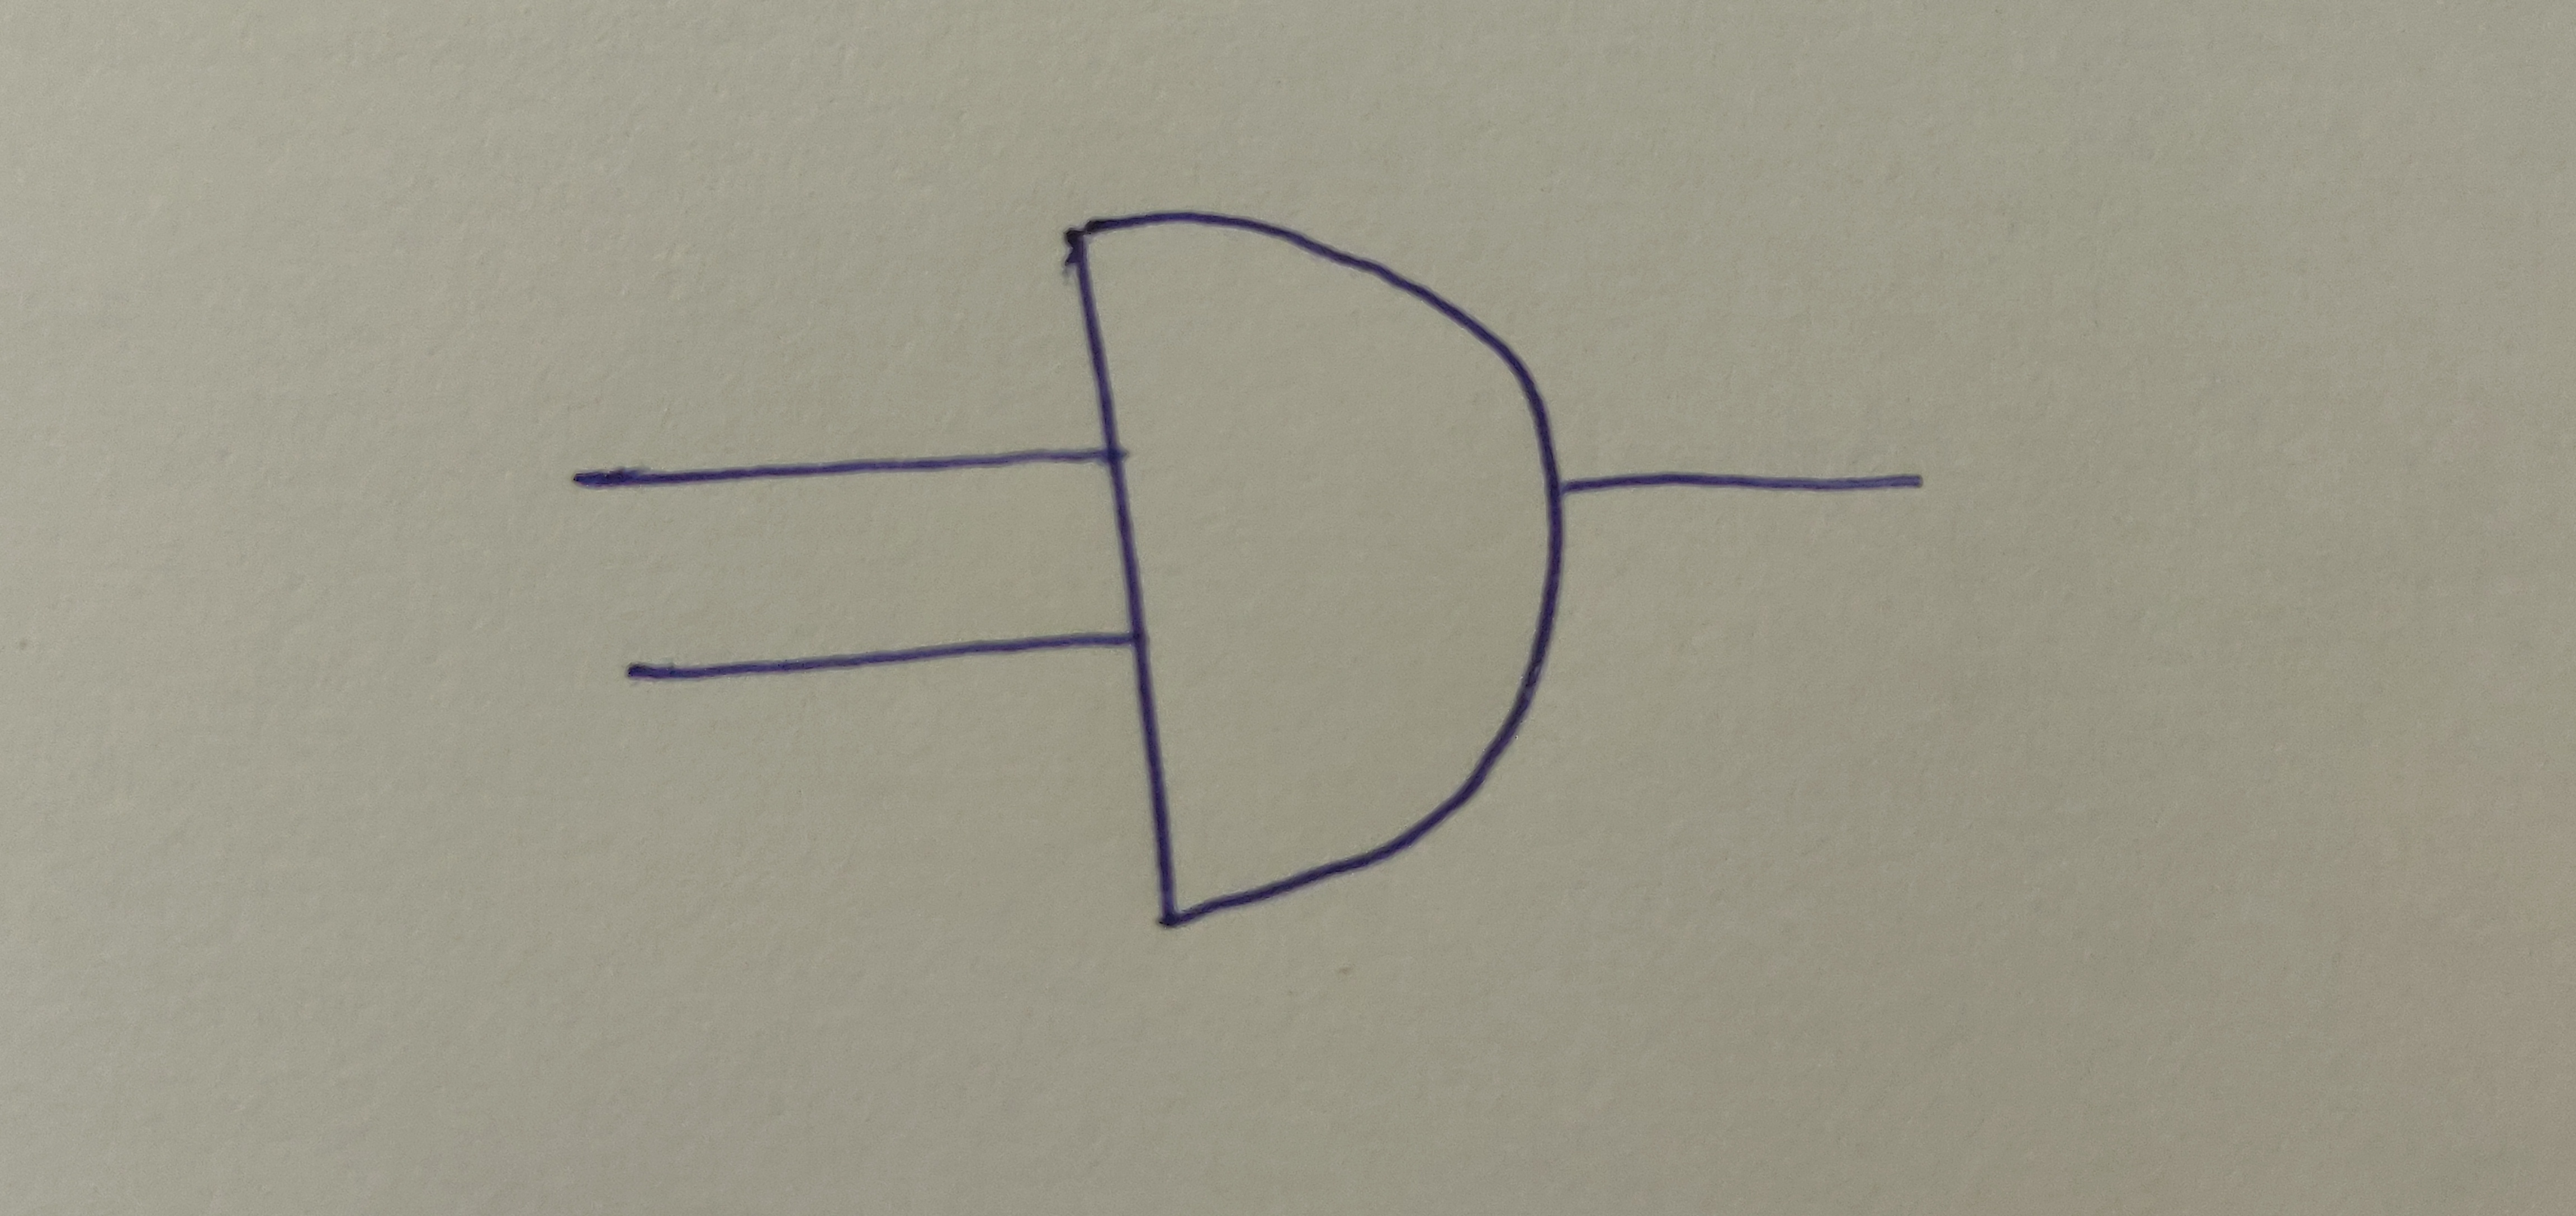and: (1060, 215, 1569, 927)
